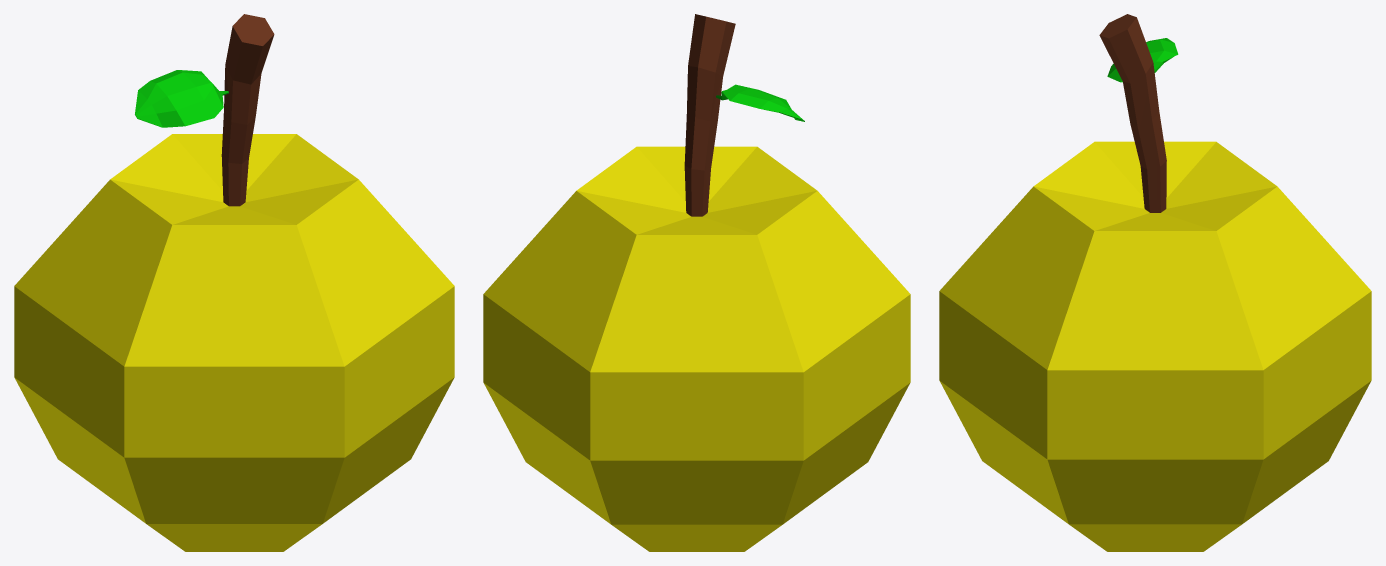
The model's file is GoldenApple.fbx.
3 views of the same model, side by side, from view 1: azimuth 30°, elevation 25°; view 2: azimuth 150°, elevation 25°; view 3: azimuth 270°, elevation 25° (orthographic). The views are drawn at different scales.
Parts seen in each view (by area): view 1: Esfera; view 2: Esfera; view 3: Esfera.
Part boxes in pixels (<box>): Esfera: <box>14,14,454,551</box>; Esfera: <box>483,14,910,551</box>; Esfera: <box>939,14,1371,551</box>.
Bounding box in the file's own units: 169 × 249 × 195.
